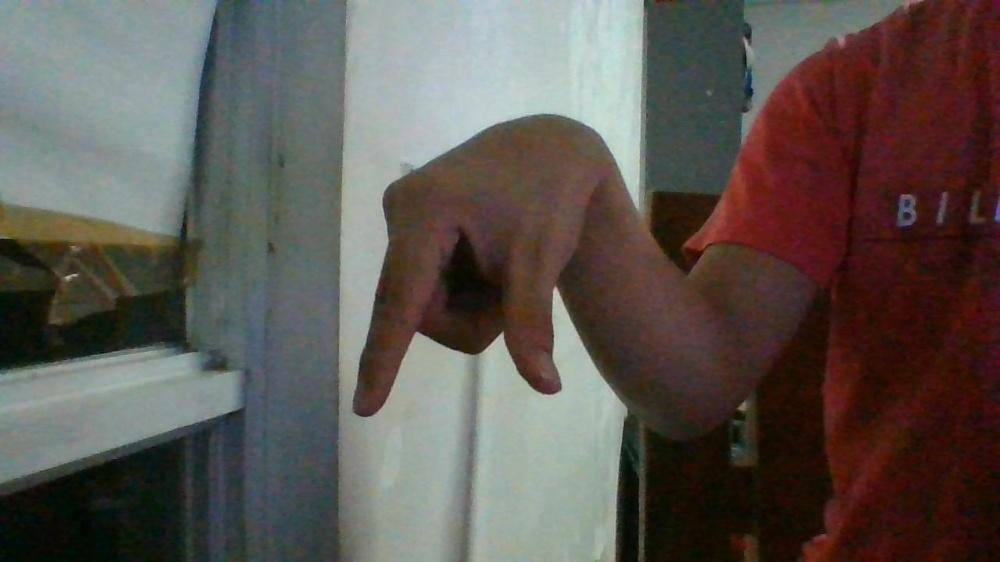q: (350, 109, 611, 420)
